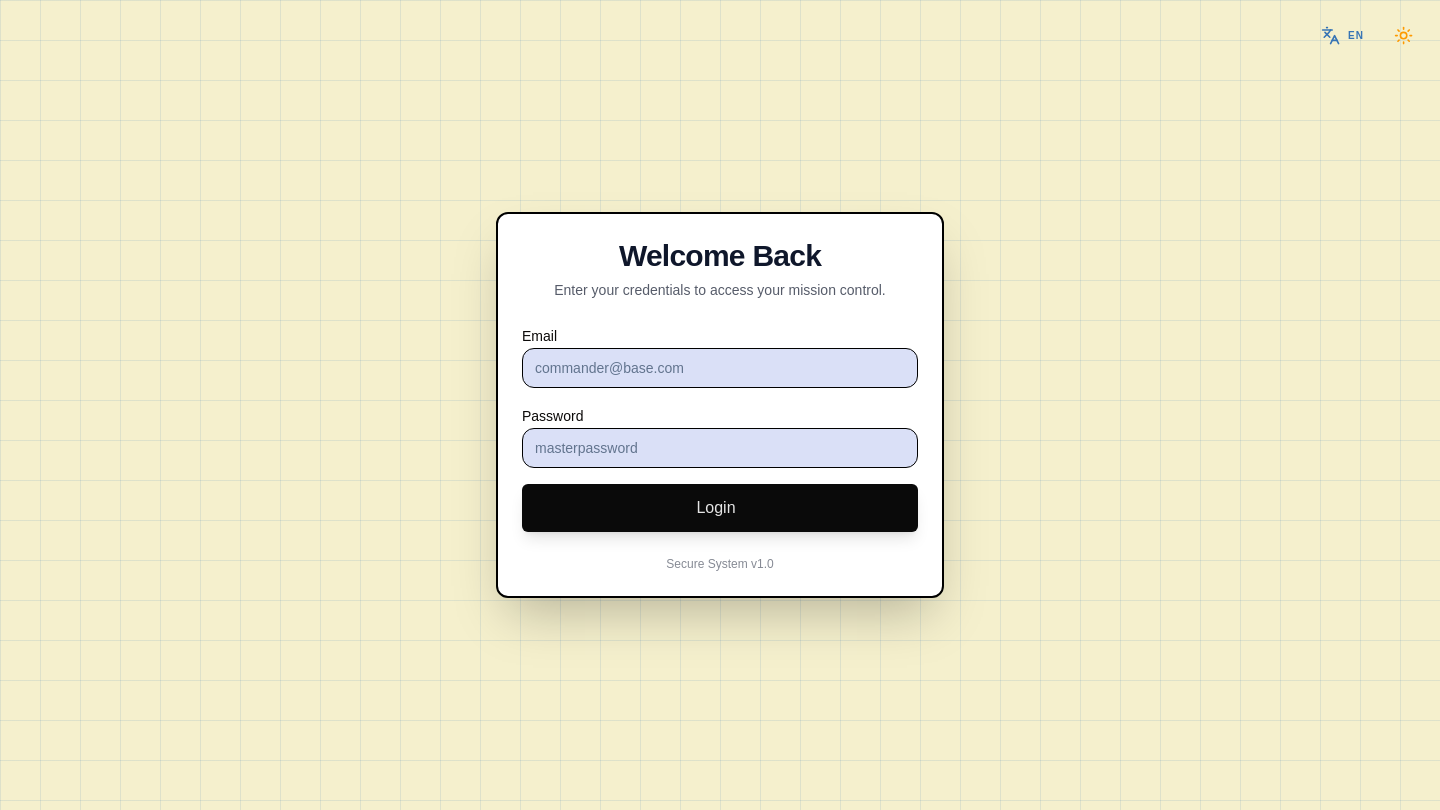
Test case: LoginPage › displays error message on failed login
The image size is (1440, 810).
Type "test@example.com" into the field labelled "Email" at (720, 368), box [522,348,918,388]
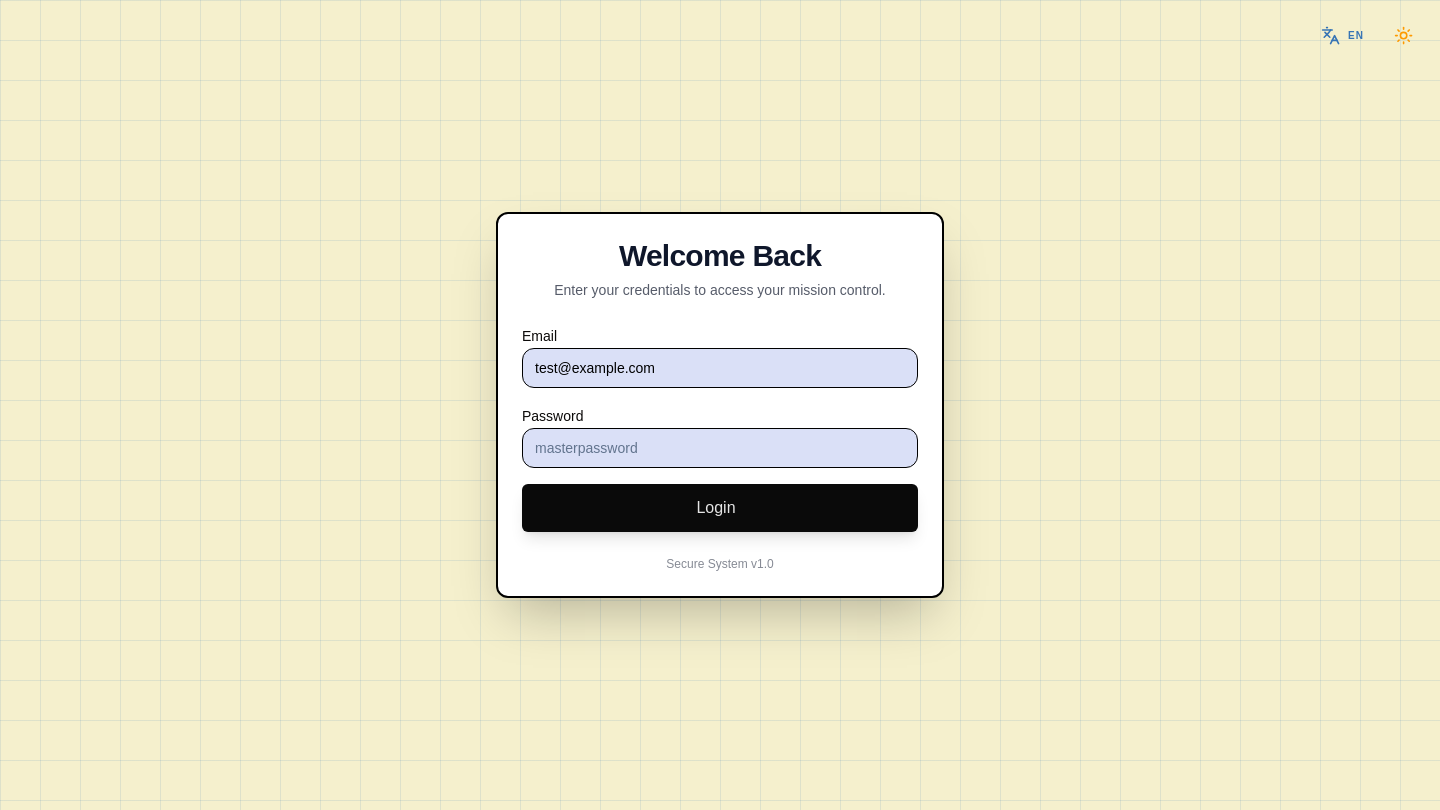
Type "wrongpassword" into the password field labelled "Password" at (720, 448), box [522,428,918,468]
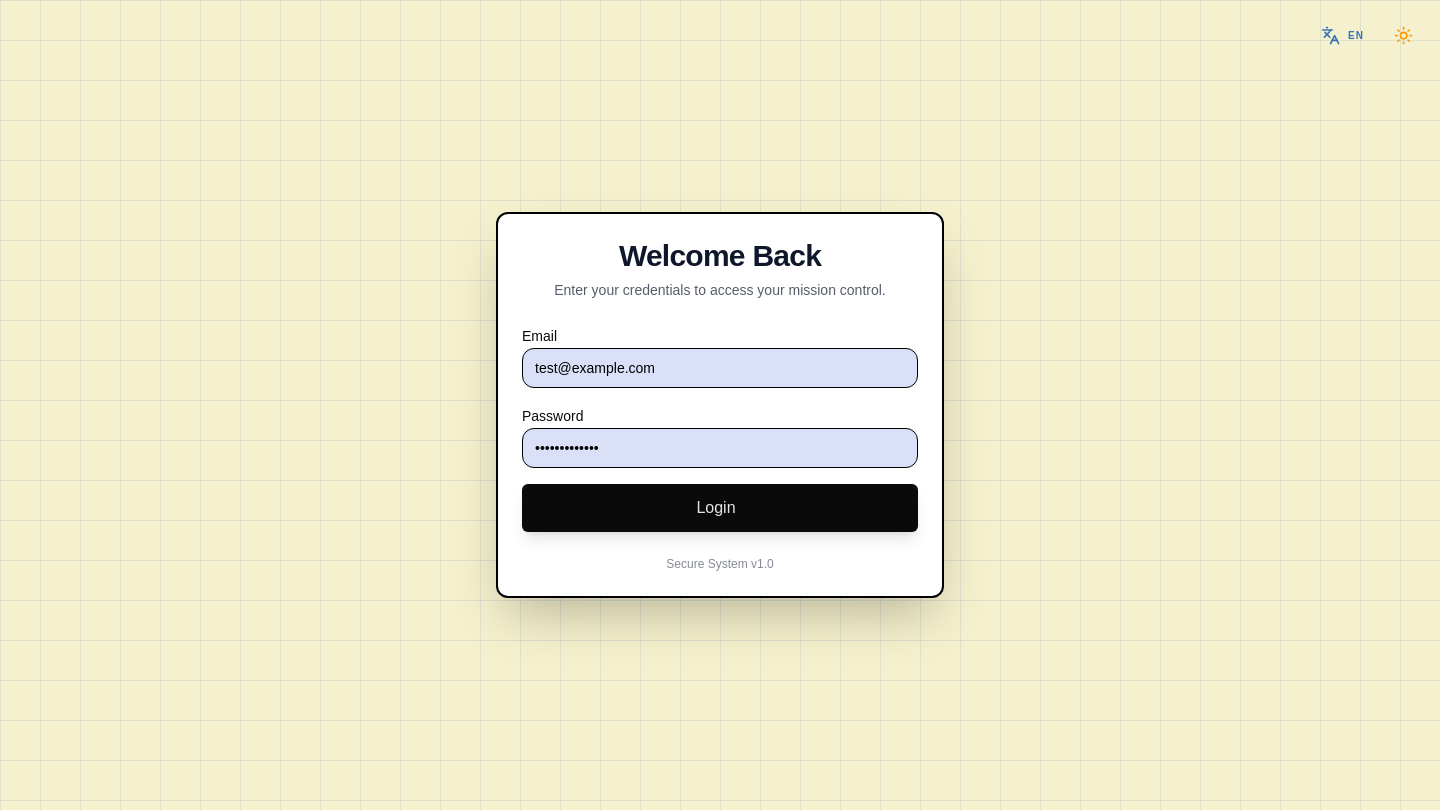
Click the button "Login" at (720, 508), box [522,484,918,532]
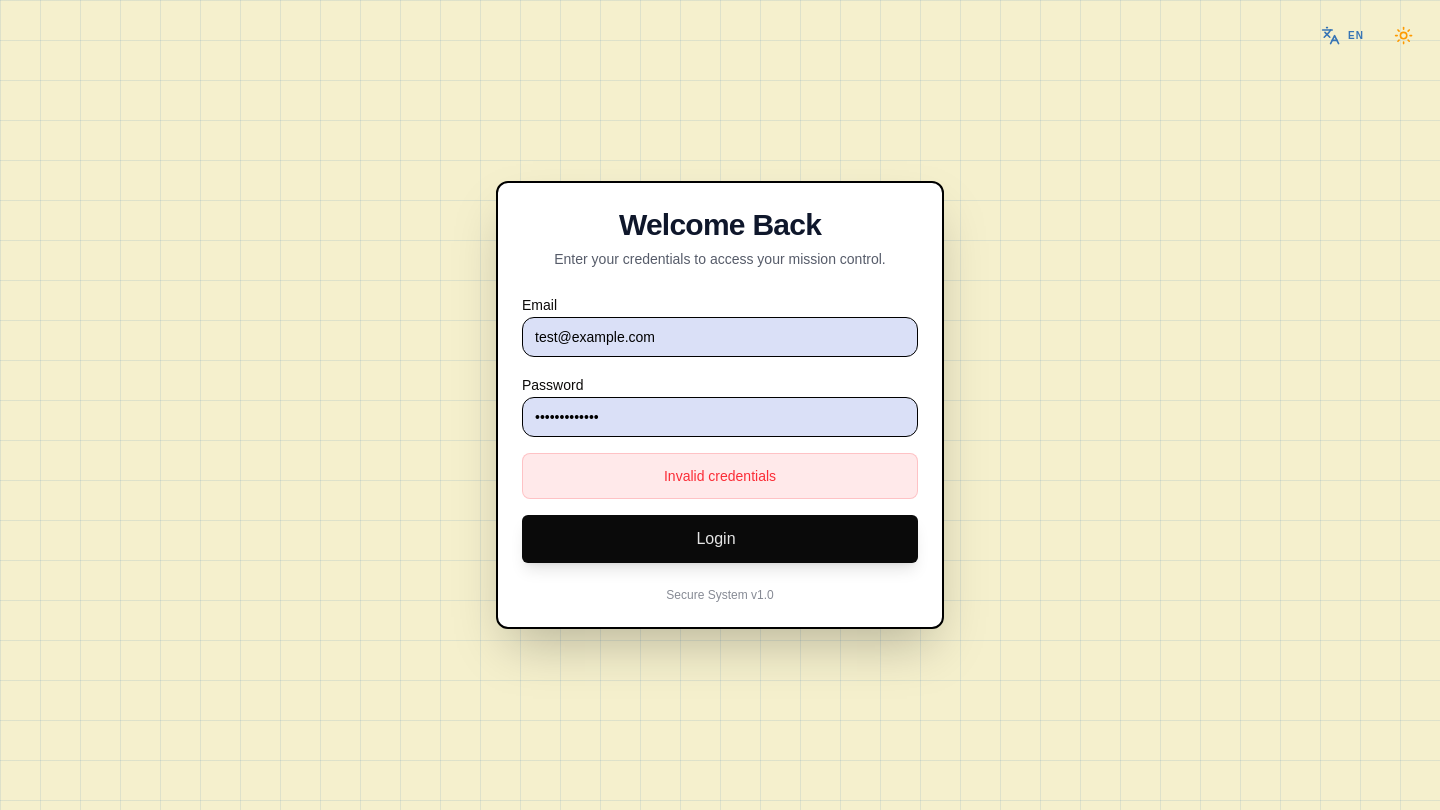
Result: the text "Invalid credentials" is shown at [522,453,918,499]
